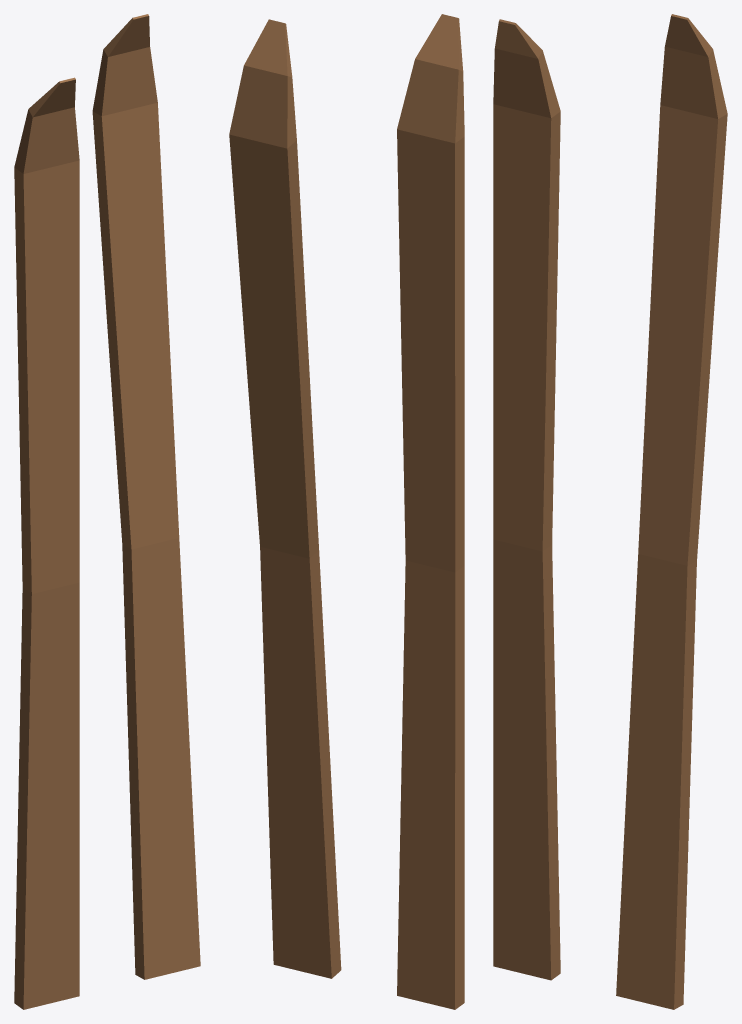
Rendered from Skies_1.fbx.
3 views of the same model, side by side, from view 1: azimuth 30°, elevation 25°; view 2: azimuth 150°, elevation 25°; view 3: azimuth 330°, elevation 25° (orthographic). The views are drawn at different scales.
Parts seen in each view (by area): view 1: Skies_mesh; view 2: Skies_mesh; view 3: Skies_mesh.
Part boxes in pixels (box(x1,y1,x2,y2)): Skies_mesh: box(14, 14, 200, 1009); Skies_mesh: box(229, 14, 464, 1009); Skies_mesh: box(493, 14, 727, 1009).
Size of the model in its own units: 25.91 by 131 by 16.99.
